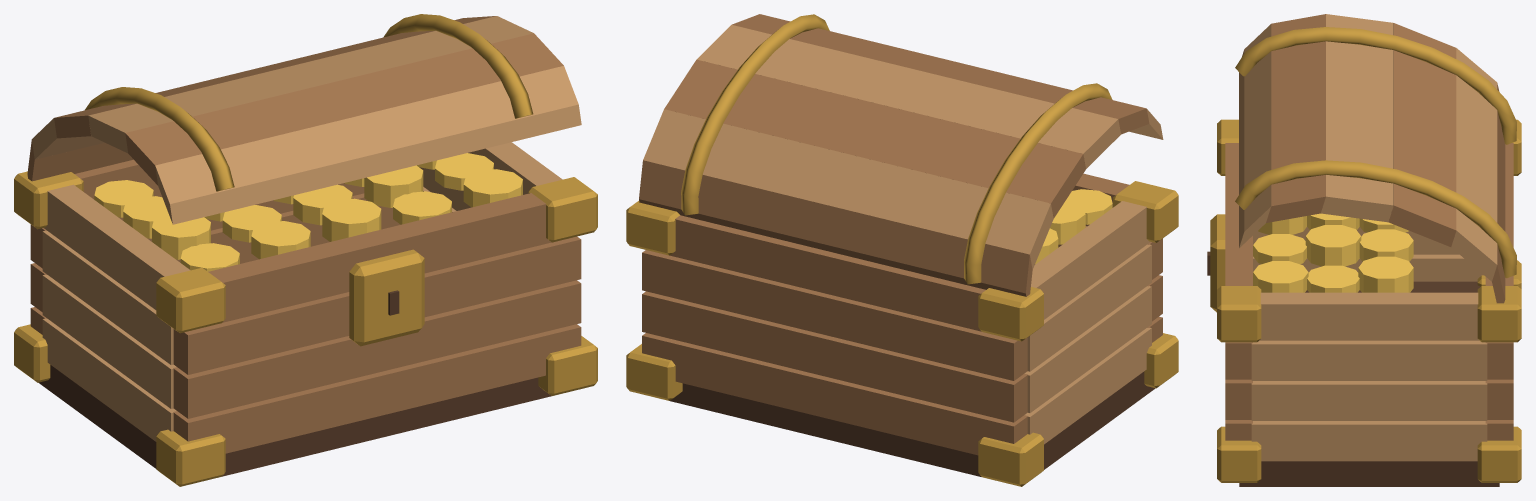
File: treasure-chest.glb
The picture shows the model from 3 angles, left to right: view 1: azimuth 30°, elevation 25°; view 2: azimuth 150°, elevation 25°; view 3: azimuth 270°, elevation 25°; orthographic projection. The views are drawn at different scales.
Parts seen in each view (by area): view 1: Arched lid plank.005, Chest front and back plank.002, Chest front and back plank, Chest front and back plank.006, Arched lid plank.004, Chest front and back plank.004, Arched lid plank.003, Chest bottom, Chest side plank.006, Brass lock plate, Chest side plank.002, Chest side plank.004 (+29 smaller); view 2: Arched lid plank.002, Arched lid plank.001, Arched lid plank, Chest front and back plank.003, Arched lid plank.003, Chest front and back plank.005, Chest front and back plank.001, Chest front and back plank.007, Chest bottom, Arched lid plank.004, Chest side plank.006, Chest side plank.002 (+13 smaller); view 3: Arched lid plank.003, Arched lid plank.002, Chest side plank.007, Chest side plank.005, Chest side plank.003, Arched lid plank.004, Chest side plank.001, Arched lid plank.001, Chest bottom, Brass lid strap, Brass lid strap.001, Arched lid plank.005 (+27 smaller).
Part boxes in pixels (bbox=[...]): Arched lid plank.005: bbox=[155, 66, 581, 224]; Chest front and back plank.002: bbox=[173, 280, 581, 418]; Chest front and back plank: bbox=[173, 324, 581, 453]; Chest front and back plank.006: bbox=[208, 193, 551, 322]; Arched lid plank.004: bbox=[125, 33, 563, 185]; Chest front and back plank.004: bbox=[173, 236, 581, 374]; Arched lid plank.003: bbox=[88, 16, 533, 153]; Chest bottom: bbox=[38, 365, 551, 476]; Chest side plank.006: bbox=[44, 184, 190, 309]; Brass lock plate: bbox=[349, 249, 424, 346]; Chest side plank.002: bbox=[42, 274, 176, 408]; Chest side plank.004: bbox=[42, 231, 173, 364]; Arched lid plank.002: bbox=[664, 59, 1085, 218]; Arched lid plank.001: bbox=[643, 109, 1053, 269]; Arched lid plank: bbox=[639, 160, 1032, 296]; Chest front and back plank.003: bbox=[642, 291, 1027, 422]; Arched lid plank.003: bbox=[697, 24, 1120, 168]; Chest front and back plank.005: bbox=[642, 250, 1027, 380]; Chest front and back plank.001: bbox=[642, 333, 1027, 455]; Chest front and back plank.007: bbox=[670, 215, 985, 331]; Chest bottom: bbox=[670, 371, 1155, 476]; Arched lid plank.004: bbox=[732, 14, 1149, 134]; Chest side plank.006: bbox=[1031, 201, 1150, 319]; Chest side plank.002: bbox=[1024, 286, 1151, 412]; Arched lid plank.003: bbox=[1320, 14, 1393, 222]; Arched lid plank.002: bbox=[1388, 23, 1456, 246]; Chest side plank.007: bbox=[1259, 292, 1479, 340]; Chest side plank.005: bbox=[1251, 340, 1487, 380]; Chest side plank.003: bbox=[1251, 381, 1487, 420]; Arched lid plank.004: bbox=[1266, 14, 1325, 222]; Chest side plank.001: bbox=[1251, 421, 1487, 461]; Arched lid plank.001: bbox=[1451, 48, 1497, 281]; Chest bottom: bbox=[1239, 281, 1499, 486]; Brass lid strap: bbox=[1235, 27, 1516, 144]; Brass lid strap.001: bbox=[1235, 160, 1516, 278]; Arched lid plank.005: bbox=[1239, 24, 1271, 248].
Size of the model in its own units: 1.61 by 1.22 by 1.14.
